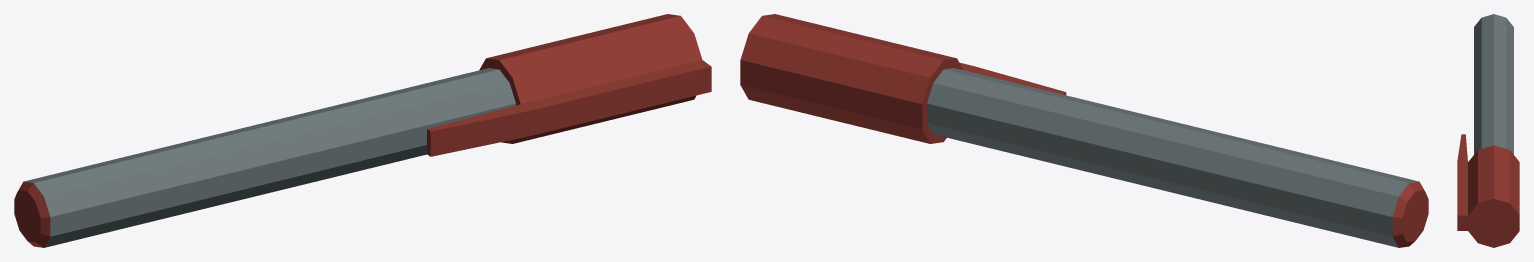
Rendered from marker.fbx.
The picture shows the model from 3 angles, left to right: view 1: azimuth 30°, elevation 25°; view 2: azimuth 150°, elevation 25°; view 3: azimuth 270°, elevation 25°; orthographic projection. The views are drawn at different scales.
Visible parts, largest first — view 1: marker.002; view 2: marker.002; view 3: marker.002.
Part boxes in pixels (x1,y1,x2,y2): marker.002: (14, 14, 711, 247); marker.002: (740, 14, 1428, 247); marker.002: (1457, 14, 1519, 247).
Size of the model in its own units: 29.96 by 3.59 by 4.13.
